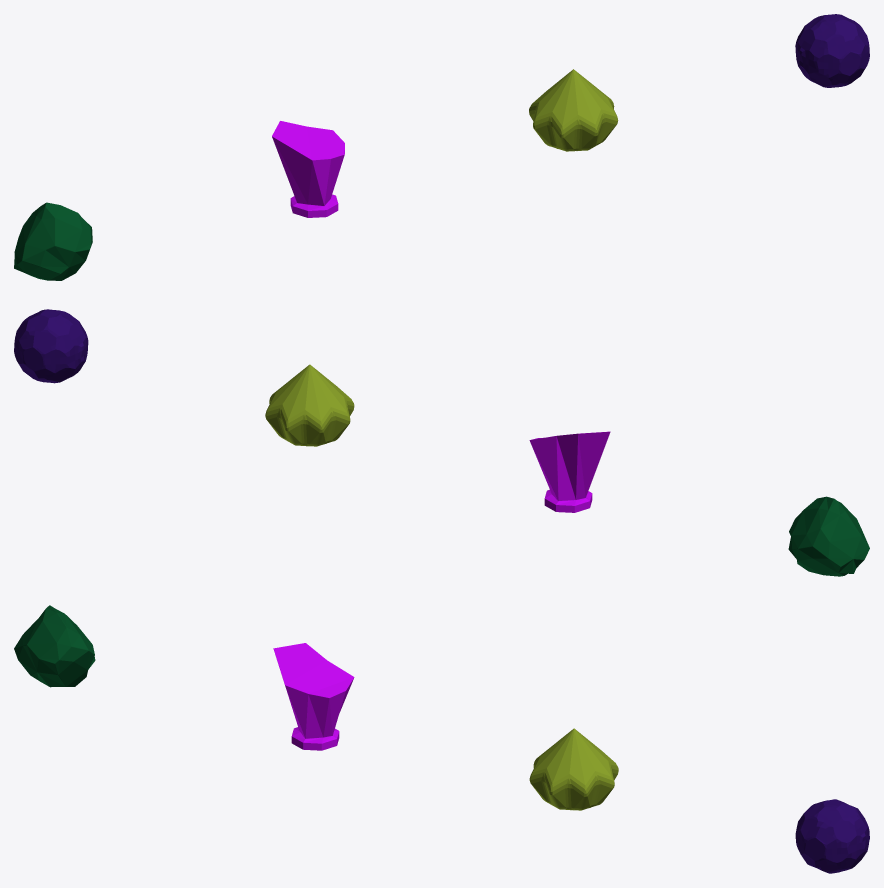
Rendered from Rocks.glb.
3 views of the same model, one above another, from view 1: azimuth 30°, elevation 25°; view 2: azimuth 150°, elevation 25°; view 3: azimuth 330°, elevation 25° (orthographic).
Parts seen in each view (by area): view 1: Cube001, Cube002, Cube, Cube003; view 2: Cube002, Cube, Cube003, Cube001; view 3: Cube001, Cube002, Cube, Cube003.
Part boxes in pixels (x1,y1,x2,y2): Cube001: (272, 121, 344, 217); Cube002: (529, 69, 618, 151); Cube: (14, 202, 92, 280); Cube003: (795, 14, 869, 87); Cube002: (265, 364, 354, 446); Cube: (788, 496, 869, 576); Cube003: (14, 309, 88, 383); Cube001: (529, 431, 610, 512); Cube001: (273, 643, 354, 750); Cube002: (529, 728, 618, 810); Cube: (14, 605, 95, 687); Cube003: (795, 799, 869, 873).
Bounding box in the file's own units: 9.81 × 1.01 × 0.9326.
